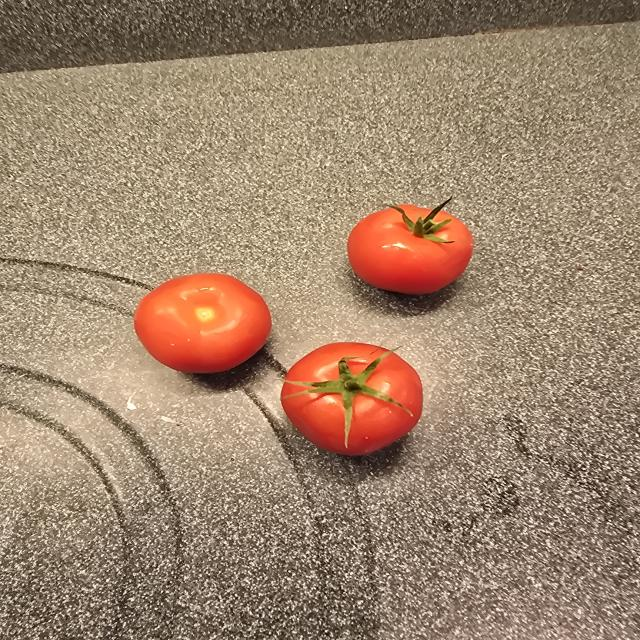Tomato: (281, 342, 423, 456), (134, 274, 271, 373), (347, 200, 474, 295)
